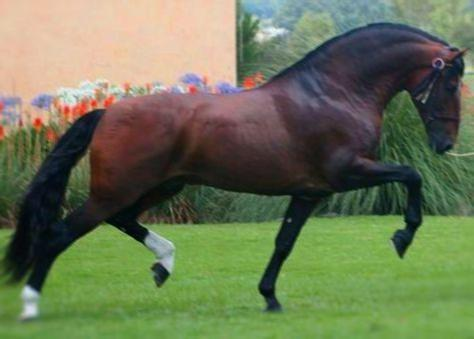horse: (0, 20, 468, 321)
